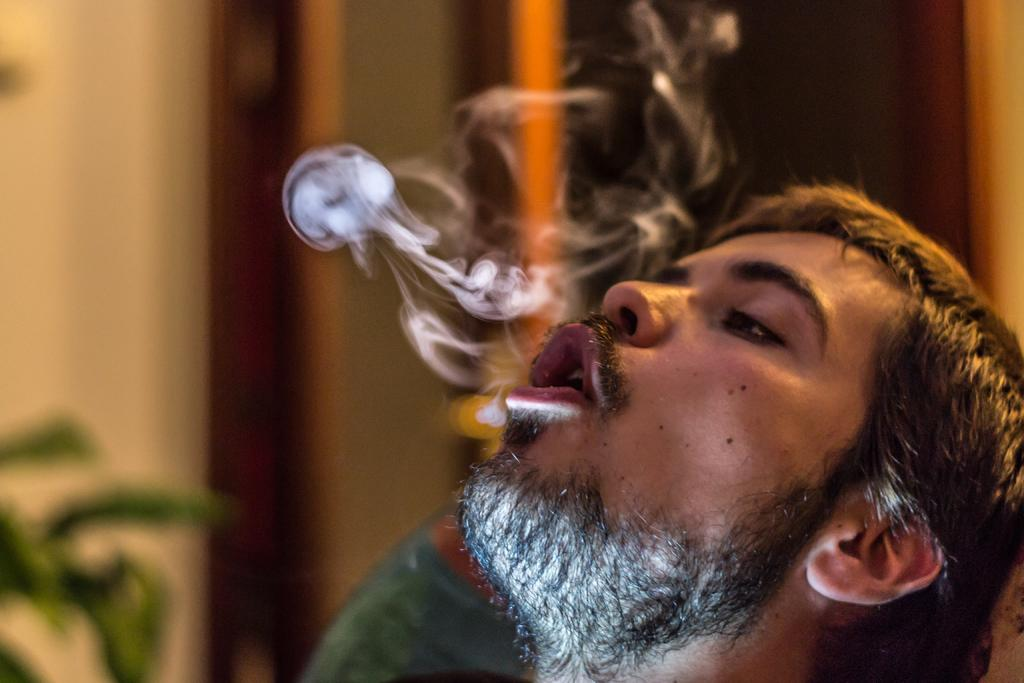Sem Máscara: (446, 219, 884, 643)
